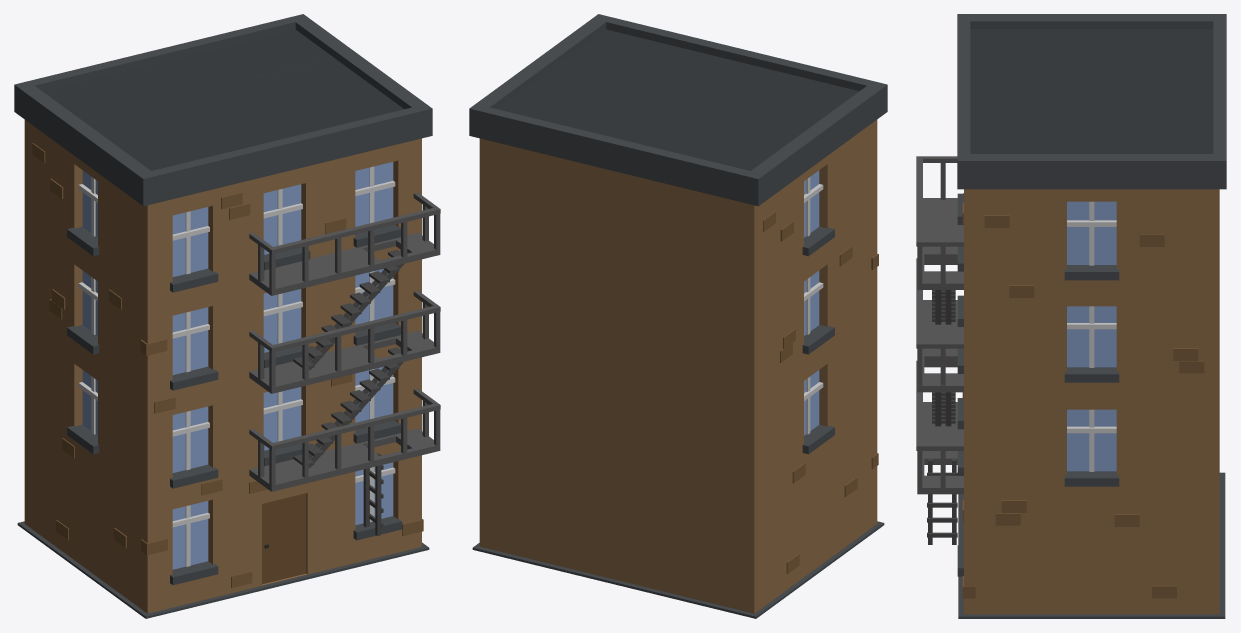
File: House_01.glb
The picture shows the model from 3 angles, left to right: view 1: azimuth 30°, elevation 25°; view 2: azimuth 150°, elevation 25°; view 3: azimuth 270°, elevation 25°; orthographic projection. The views are drawn at different scales.
Visible parts, largest first — view 1: House_01; view 2: House_01; view 3: House_01.
Boxes of the visible parts, x1,y1,x2,y2 form: House_01: (14,14,440,618); House_01: (469,14,887,618); House_01: (916,14,1226,618).
Size of the model in its own units: 7.14 by 10.41 by 6.37.
1 material, 1 textured.
